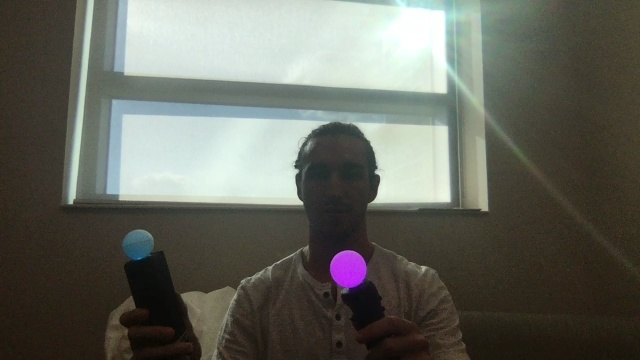wand: (331, 250, 368, 288), (123, 229, 154, 262)
